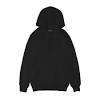sweater: (12, 6, 84, 95)
